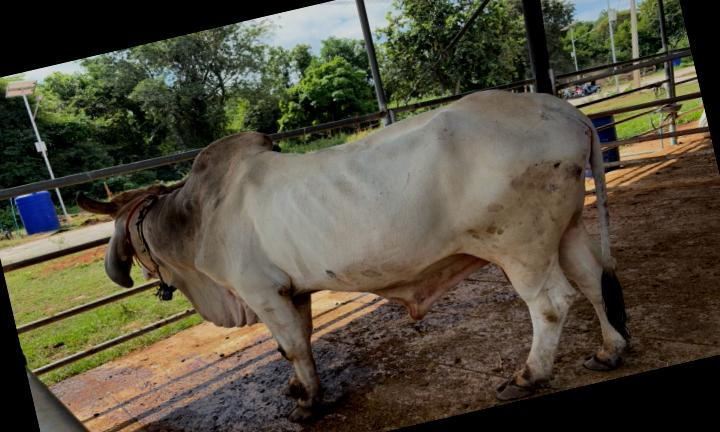Brahman: (76, 90, 632, 421)
